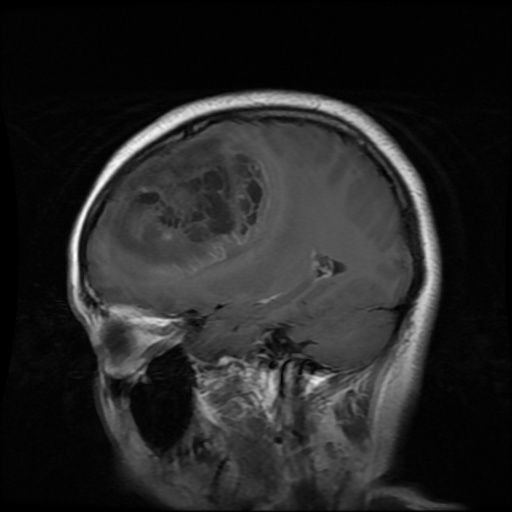glioma: (102, 122, 279, 269)
